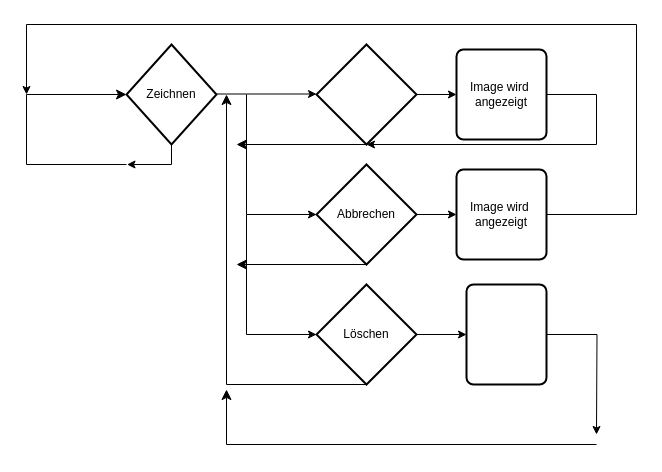
Some shapes in this 662 by 472 pixel diagram are drawn without their labels. The shapes that lost their labels are listed below. From the top down, each one's centre as x and y in pixels, then its label:
At point (366, 94): "download".
At point (506, 334): "Canvas weiß".
